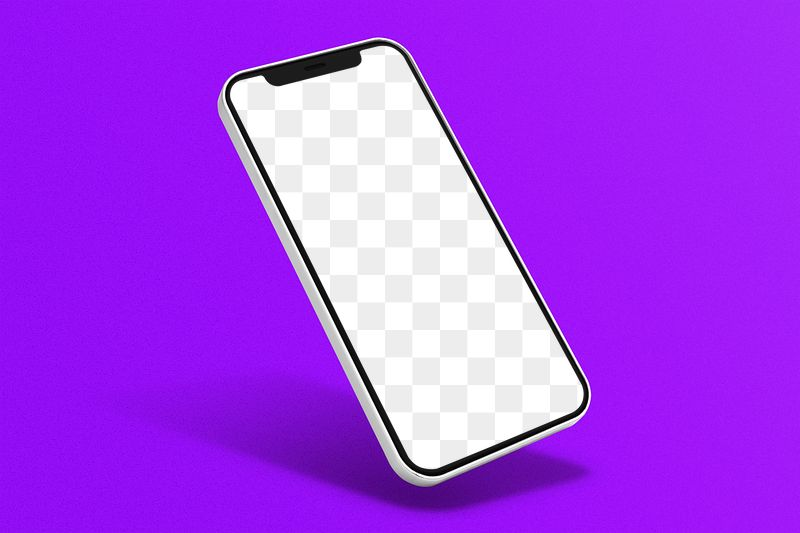phone: (208, 27, 617, 484)
